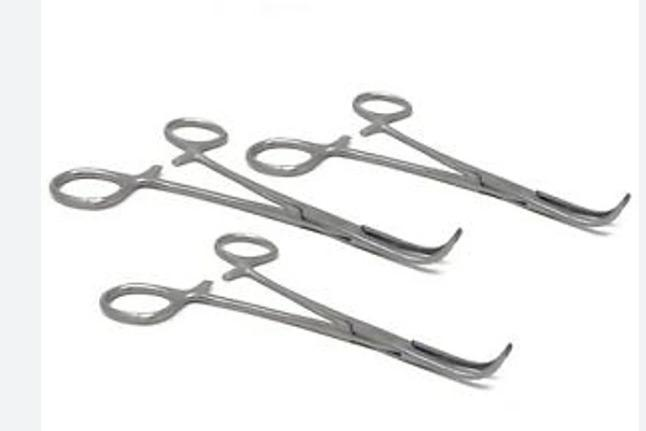Surgical blade: (87, 80, 518, 344)
